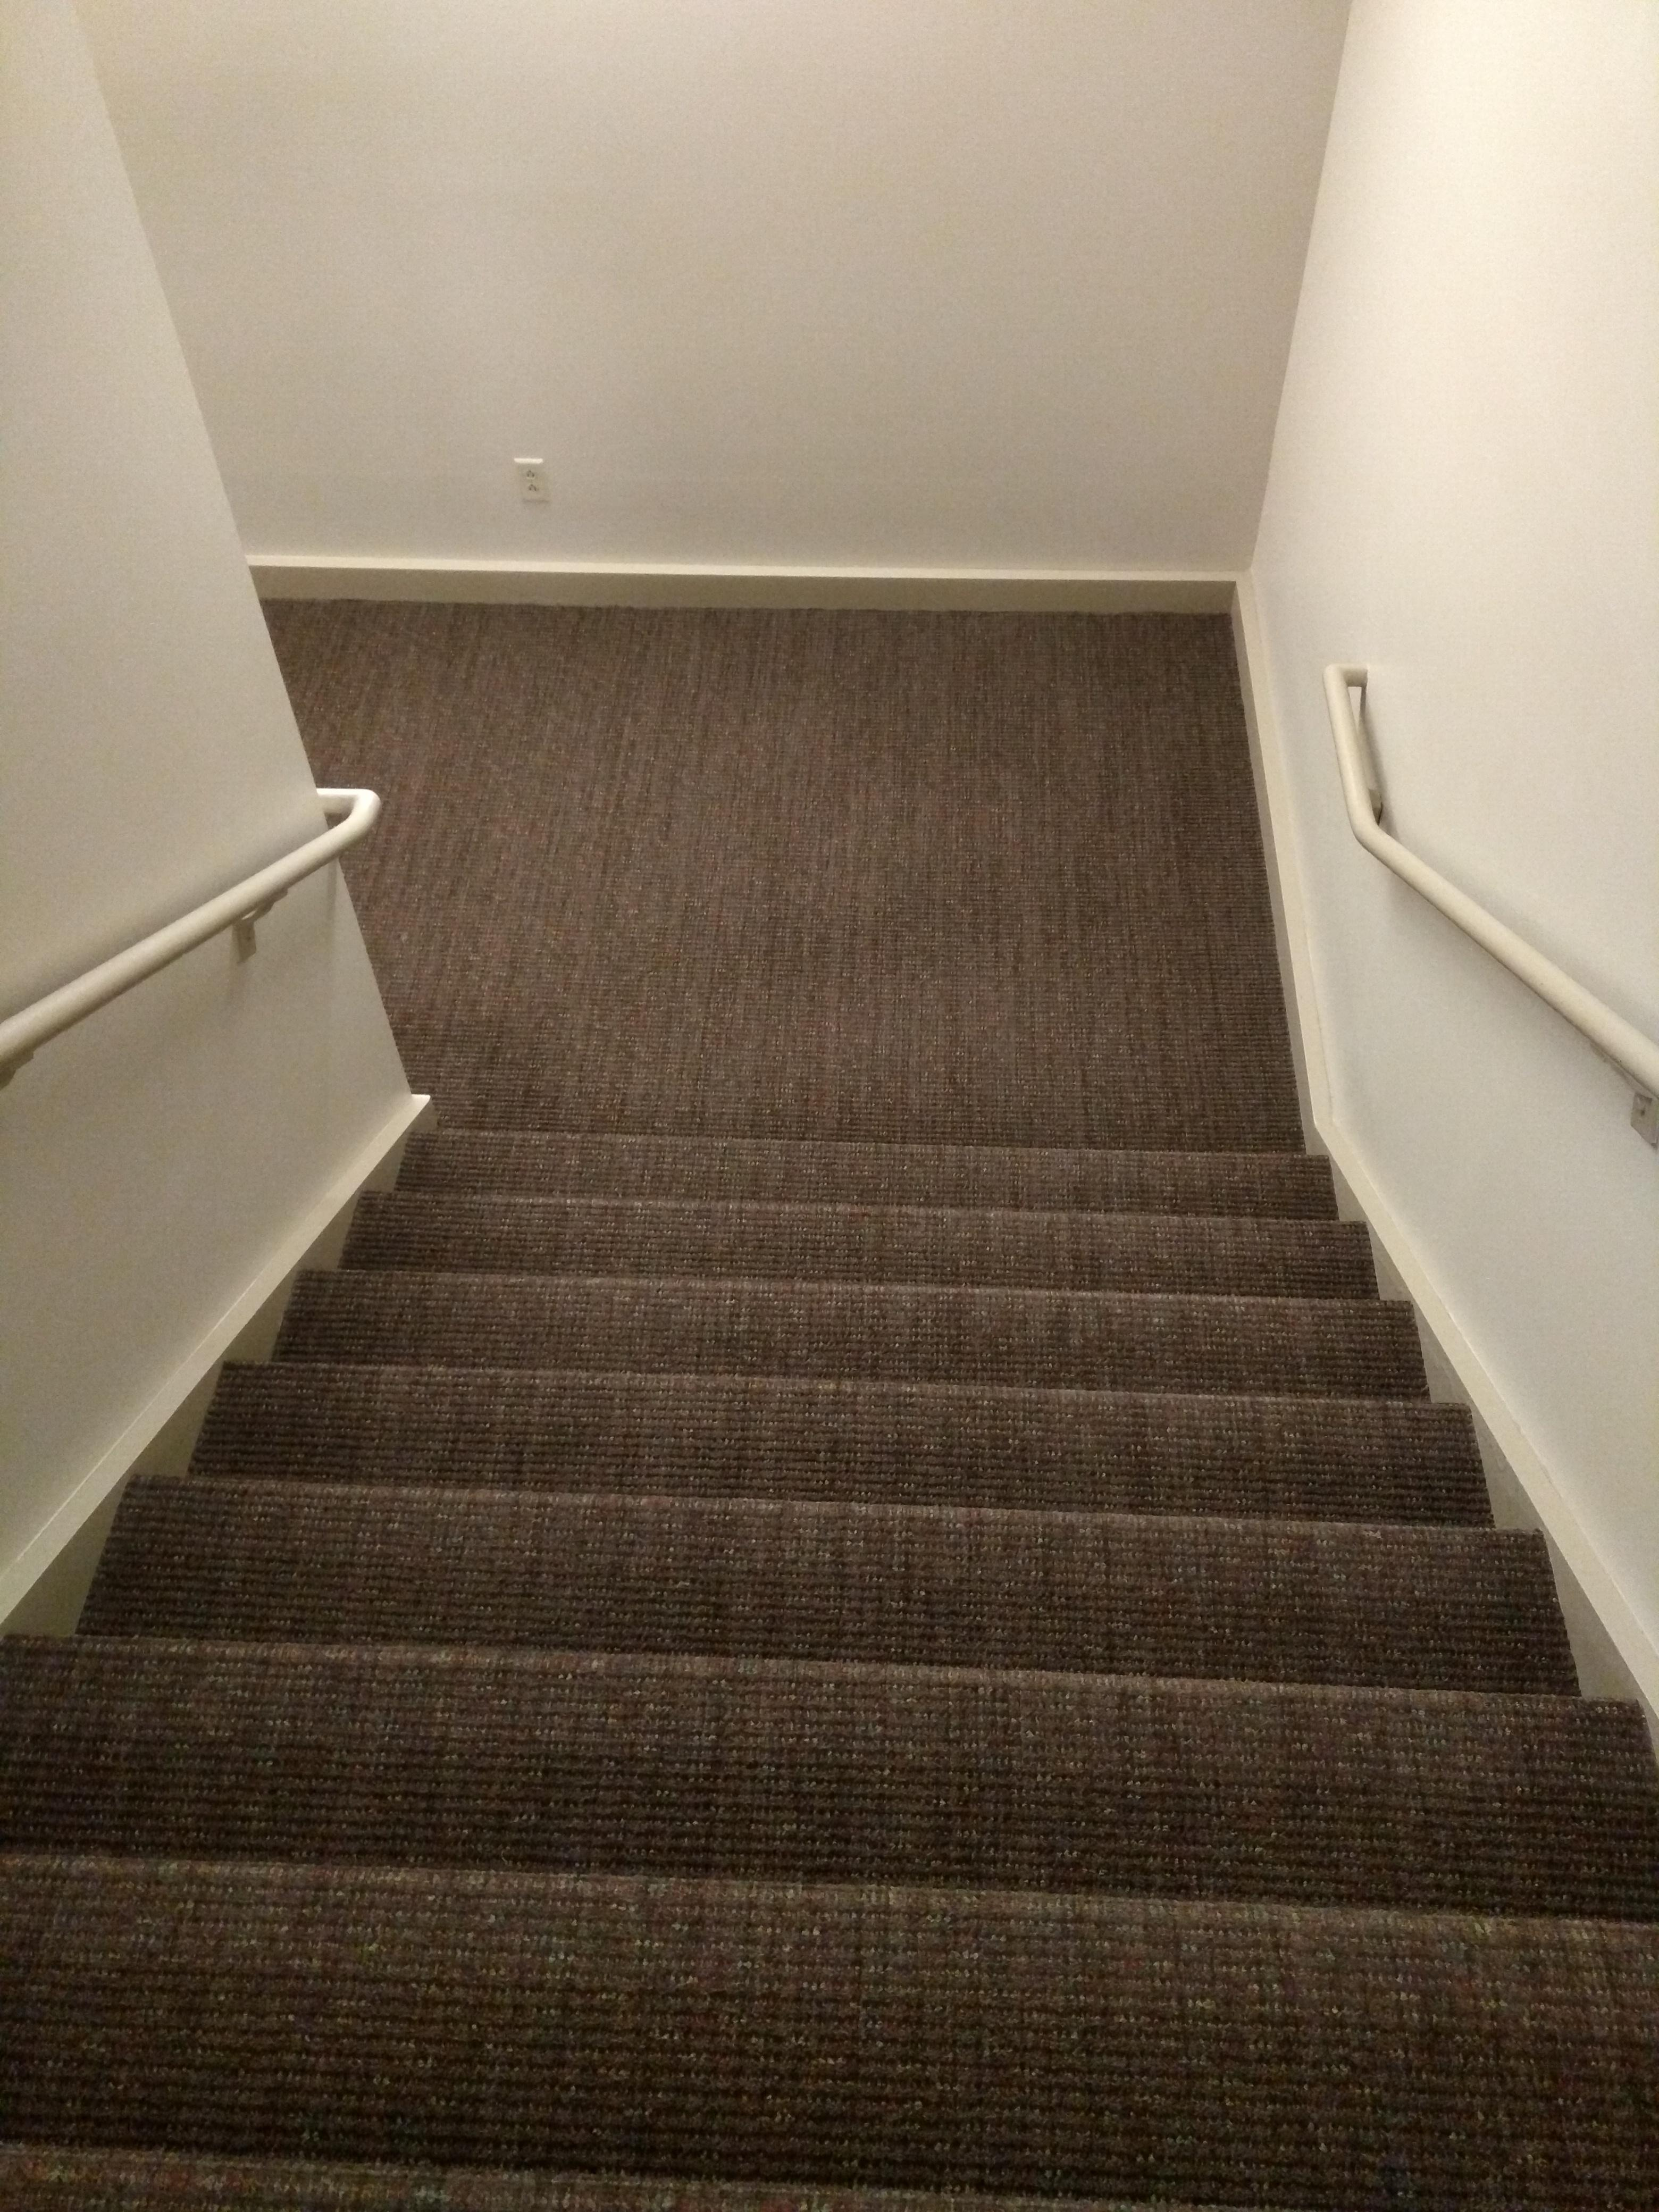stairs_down: (10, 1127, 1659, 2181)
